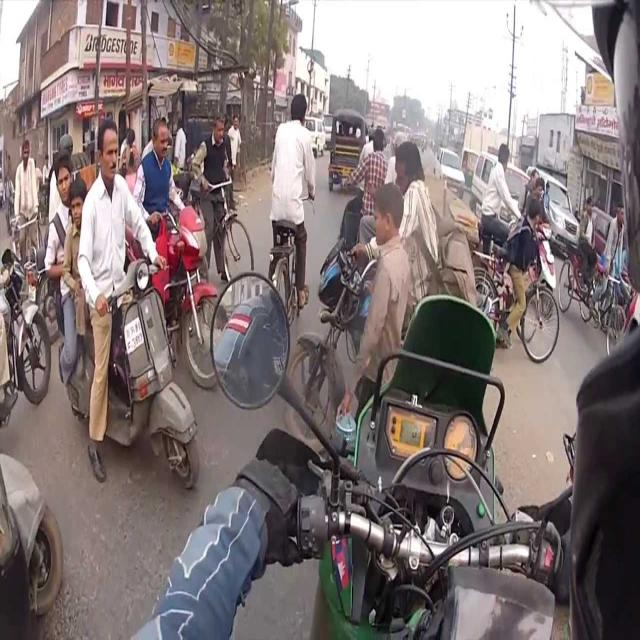motorcycle: (62, 258, 201, 486)
